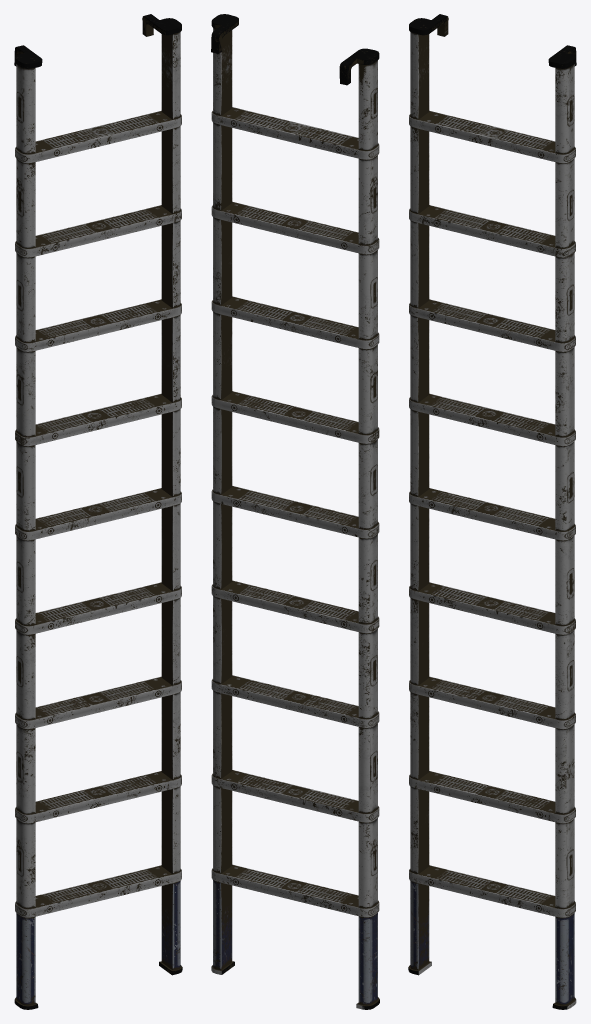
The model's file is LADDER STAIR.fbx.
The picture shows the model from 3 angles, left to right: view 1: azimuth 30°, elevation 25°; view 2: azimuth 150°, elevation 25°; view 3: azimuth 330°, elevation 25°; orthographic projection.
Parts seen in each view (by area): view 1: Object_1; view 2: Object_1; view 3: Object_1.
Boxes of the visible parts, <box> form: Object_1: <box>14,14,182,1009</box>; Object_1: <box>211,14,379,1009</box>; Object_1: <box>408,14,576,1009</box>.
Bounding box in the file's own units: 0.5343 × 3 × 0.1318.
1 material, 1 textured.
